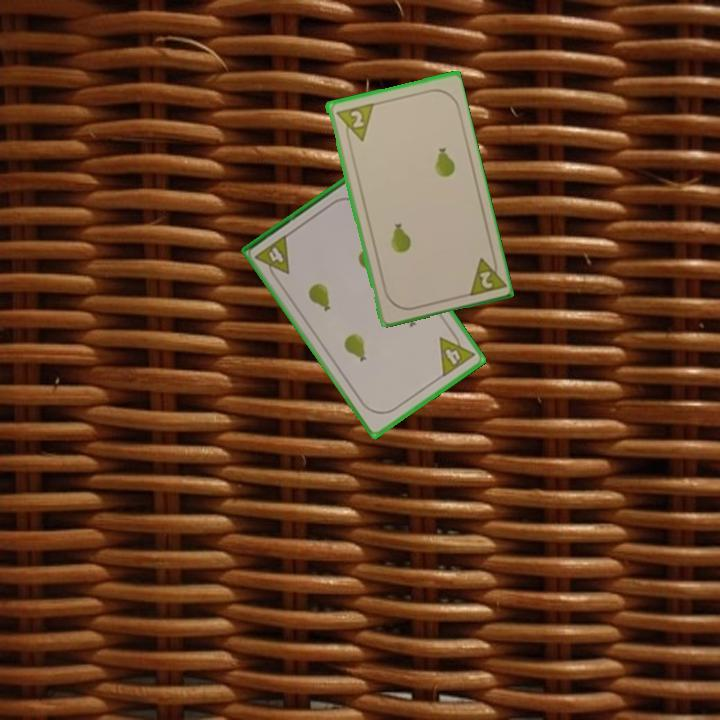2p: (463, 250, 507, 299), (332, 99, 375, 147)
4p: (436, 326, 478, 380), (252, 231, 293, 283)
